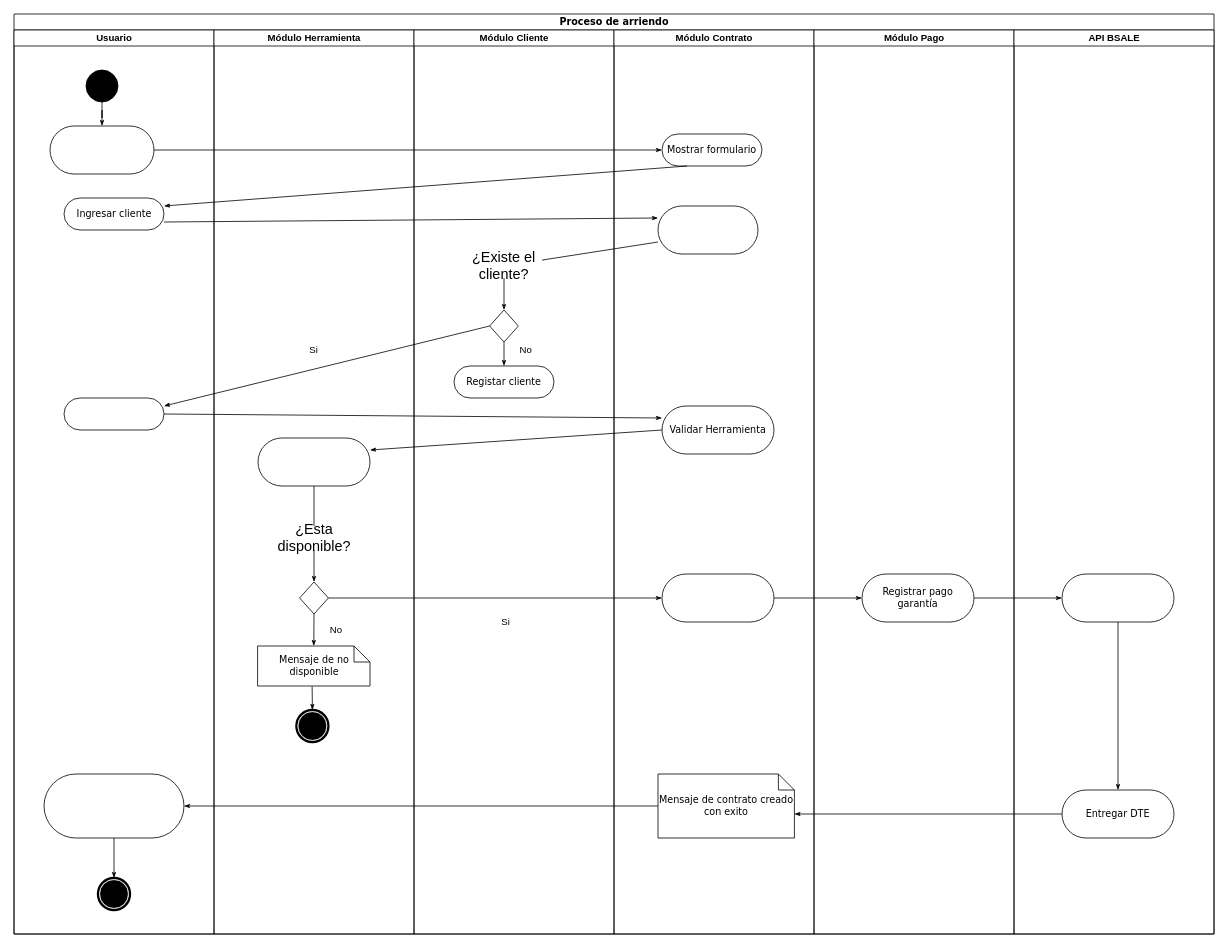
This 1228x948 diagram has some shape labels left out. The shapes that lost their labels are listed below. From the top down, each one's centre as x and y in pixels, then its label:
the point at 101,149: Iniciar registro contrato
the point at 707,229: Validar cliente
the point at 113,413: Ingresar herramienta
the point at 313,461: Ver disponibilidad herramienta
the point at 717,597: Crear nuevo contrato
the point at 1117,597: Emitir DTE
the point at 113,805: Entregar herramienta y contrato al cliente
